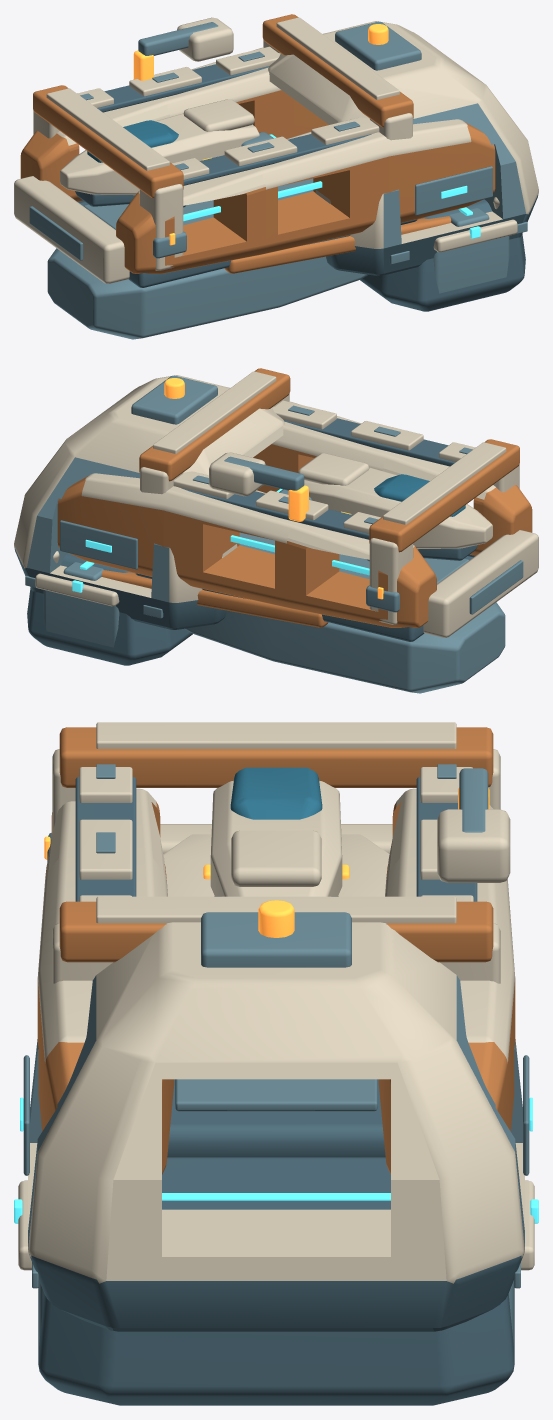
The model's file is shipyard.glb.
The picture shows the model from 3 angles, top to bottom: view 1: azimuth 30°, elevation 25°; view 2: azimuth 150°, elevation 25°; view 3: azimuth 270°, elevation 25°; orthographic projection. The views are drawn at different scales.
Visible parts, largest first — view 1: Continuous ochre berth pressure cheek, Ring-to-berth pressure shell, Dock integrated tapered lower keel, Continuous ochre berth pressure cheek.001, Dock terminal armored nose, Ivory shuttle pressure shell, Ring-coupled tapered keel, Dock portal roof truss.001, Dock portal roof truss, Coupling jaw under deck, Dock portal upper armor.001, Dock portal upper armor (+27 smaller); view 2: Continuous ochre berth pressure cheek.001, Ring-to-berth pressure shell, Dock integrated tapered lower keel, Continuous ochre berth pressure cheek, Dock terminal armored nose, Ring-coupled tapered keel, Ivory shuttle pressure shell, Dock portal roof truss.001, Dock portal roof truss, Coupling jaw under deck.001, Dock portal upper armor.001, Dock portal upper armor (+27 smaller); view 3: Ring-to-berth pressure shell, Ring-coupled tapered keel, Dock portal roof truss.001, Continuous ochre berth pressure cheek, Continuous ochre berth pressure cheek.001, Dock load pan, Dock portal upper armor.001, Dock portal roof truss, Dock portal upper armor, Pressure shell dorsal service ridge, Ivory shuttle pressure shell, Dock recessed service bed (+22 smaller).
Boxes of the visible parts, x1,y1,x2,y2 form: Continuous ochre berth pressure cheek: (116, 119, 495, 273); Ring-to-berth pressure shell: (268, 21, 538, 275); Dock integrated tapered lower keel: (47, 248, 368, 339); Continuous ochre berth pressure cheek.001: (20, 47, 328, 201); Dock terminal armored nose: (14, 176, 129, 283); Ivory shuttle pressure shell: (60, 113, 259, 195); Ring-coupled tapered keel: (360, 199, 525, 311); Dock portal roof truss.001: (33, 85, 183, 198); Dock portal roof truss: (262, 14, 413, 127); Coupling jaw under deck: (433, 236, 509, 293); Dock portal upper armor.001: (46, 88, 169, 170); Dock portal upper armor: (276, 17, 399, 99); Continuous ochre berth pressure cheek.001: (57, 473, 436, 627); Ring-to-berth pressure shell: (14, 375, 284, 629); Dock integrated tapered lower keel: (184, 602, 505, 693); Continuous ochre berth pressure cheek: (253, 401, 532, 555); Dock terminal armored nose: (423, 530, 538, 637); Ring-coupled tapered keel: (27, 553, 192, 665); Ivory shuttle pressure shell: (304, 467, 492, 549); Dock portal roof truss.001: (369, 439, 519, 552); Dock portal roof truss: (139, 368, 290, 481); Coupling jaw under deck.001: (43, 590, 119, 647); Dock portal upper armor.001: (383, 442, 506, 524); Dock portal upper armor: (153, 371, 276, 453); Ring-to-berth pressure shell: (28, 922, 524, 1331); Ring-coupled tapered keel: (38, 1157, 514, 1405); Dock portal roof truss.001: (59, 727, 493, 787); Continuous ochre berth pressure cheek: (37, 788, 174, 1174); Continuous ochre berth pressure cheek.001: (378, 788, 515, 1174); Dock load pan: (167, 1079, 385, 1157); Dock portal upper armor.001: (96, 722, 456, 748); Dock portal roof truss: (59, 901, 493, 962); Dock portal upper armor: (96, 896, 456, 923); Pressure shell dorsal service ridge: (201, 912, 351, 967); Ivory shuttle pressure shell: (210, 781, 342, 896); Dock recessed service bed: (175, 1079, 377, 1111).
Size of the model in its own units: 3.69 by 1.93 by 2.15.
